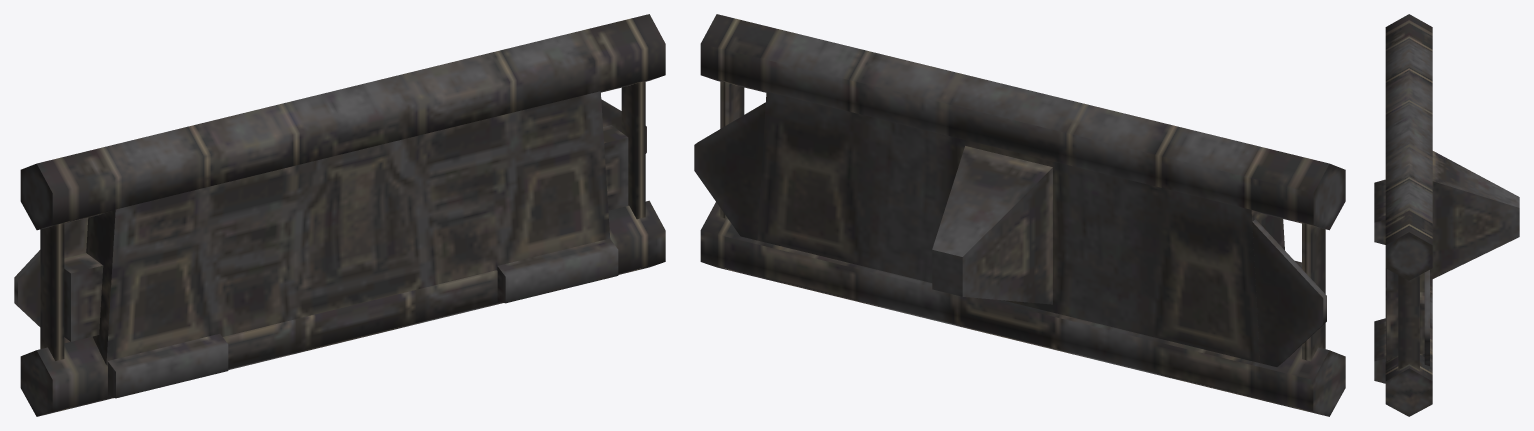
3 renders of one model, left to right at view 1: azimuth 30°, elevation 25°; view 2: azimuth 150°, elevation 25°; view 3: azimuth 270°, elevation 25°, orthographic. The views are drawn at different scales.
Visible parts, largest first — view 1: set_0_group_0; view 2: set_0_group_0; view 3: set_0_group_0.
Boxes of the visible parts, x1,y1,x2,y2 form: set_0_group_0: [14, 14, 665, 416]; set_0_group_0: [694, 14, 1345, 416]; set_0_group_0: [1374, 14, 1519, 416].
Size of the model in its own units: 0.5644 by 0.2173 by 0.1551.
Materials: 1 (1 with a texture image).
